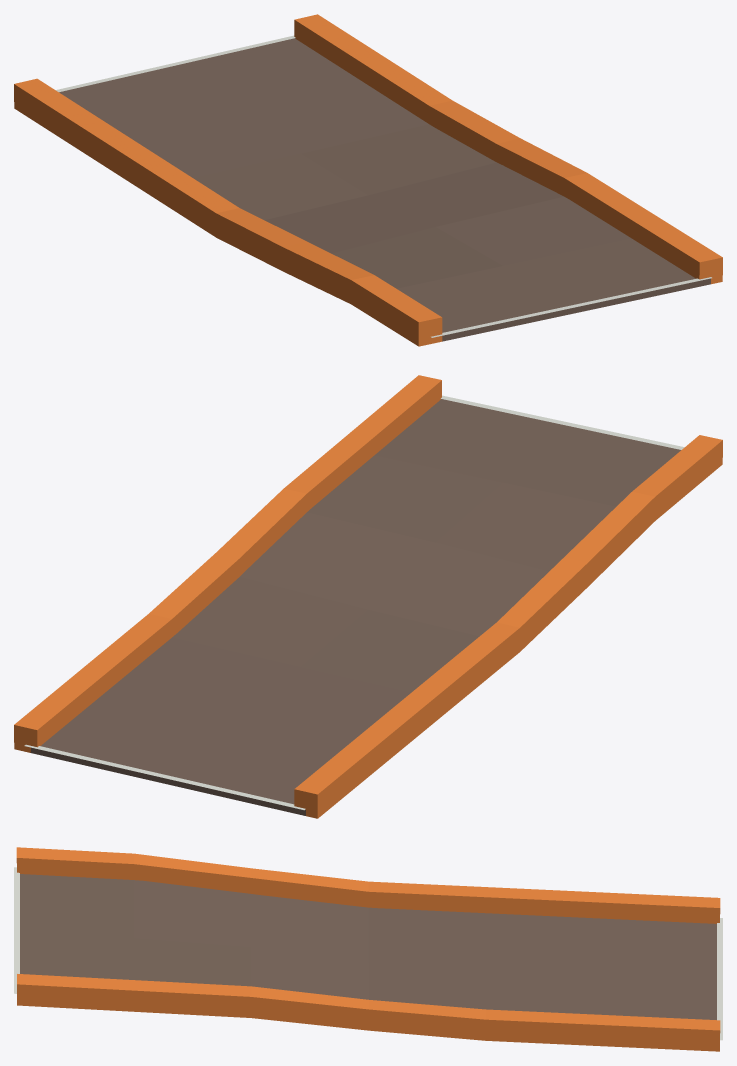
File: SM_MP_Film_A_5_3.fbx
The picture shows the model from 3 angles, top to bottom: view 1: azimuth 30°, elevation 25°; view 2: azimuth 150°, elevation 25°; view 3: azimuth 270°, elevation 25°; orthographic projection. The views are drawn at different scales.
Parts seen in each view (by area): view 1: SM_MP_Film_A_5_3; view 2: SM_MP_Film_A_5_3; view 3: SM_MP_Film_A_5_3.
Part boxes in pixels (left/top/right/bottom): SM_MP_Film_A_5_3: left=14, top=14, right=722, bottom=346; SM_MP_Film_A_5_3: left=14, top=375, right=722, bottom=818; SM_MP_Film_A_5_3: left=14, top=847, right=722, bottom=1051.
Size of what is drawn, in the model's own units: 260 by 605 by 71.25.
